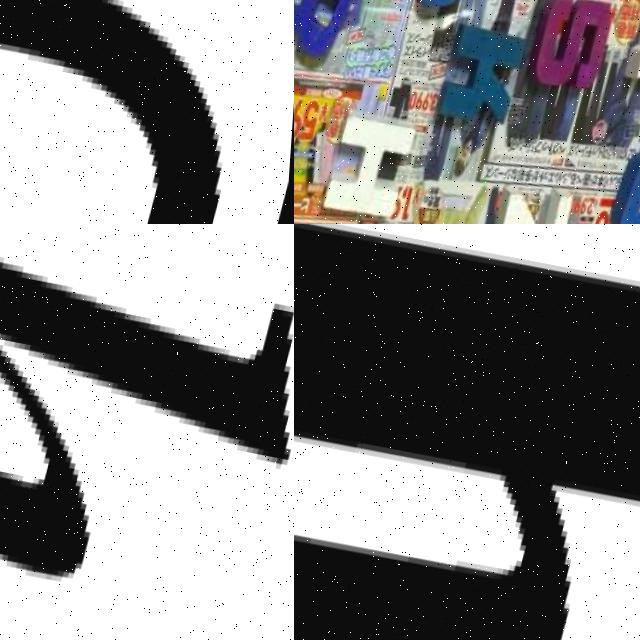0: (0, 0, 289, 224)
B: (294, 0, 373, 66)
H: (294, 224, 640, 640), (0, 260, 294, 576), (327, 108, 422, 224)
K: (442, 30, 534, 129)
S: (530, 0, 618, 94)
Z: (489, 177, 583, 224)
